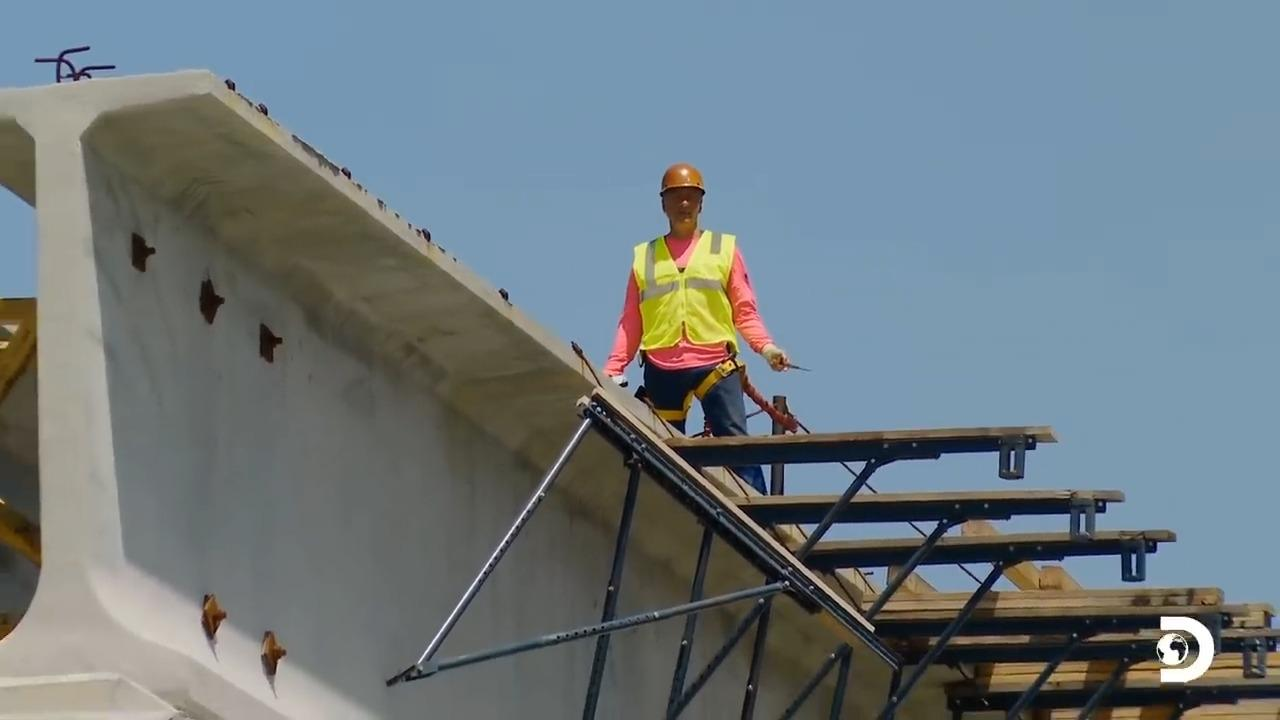Gloves: (757, 343, 789, 370)
Helmet: (659, 163, 705, 196)
Person: (602, 162, 791, 496)
Safety Vest: (634, 249, 741, 338)
